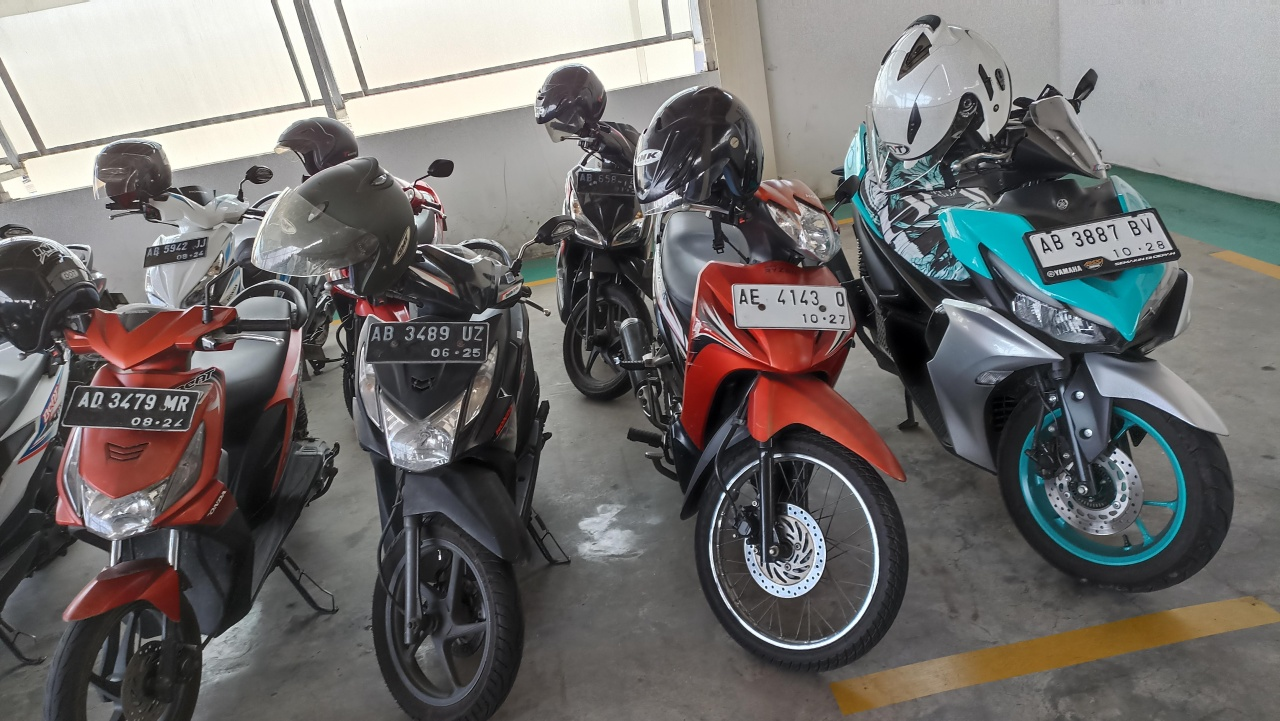plate: (1025, 209, 1178, 283), (61, 385, 203, 432), (733, 284, 851, 330), (365, 323, 490, 363), (144, 236, 208, 268)
